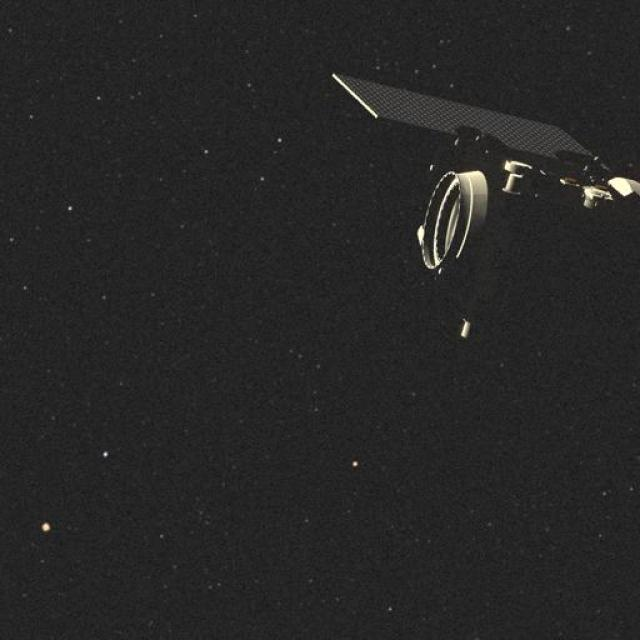proba_3_csc: (308, 61, 637, 343)
